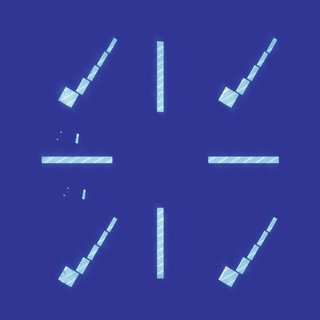overheated: (224, 265, 228, 271), (223, 86, 227, 91)
